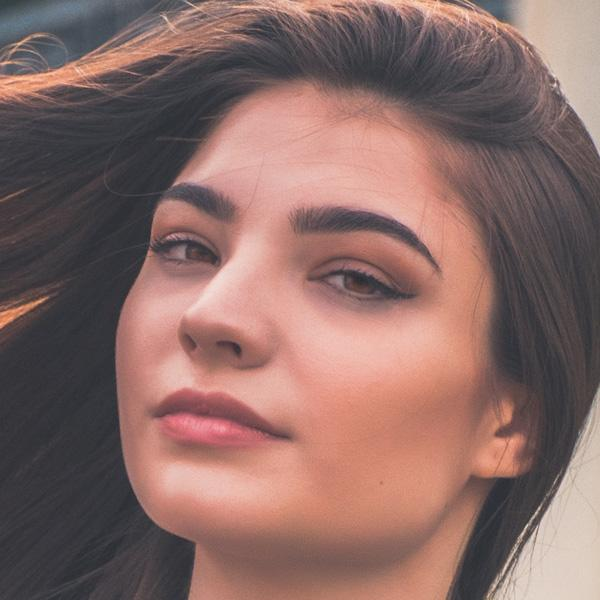Eyes: (302, 250, 419, 316), (148, 219, 230, 279)
